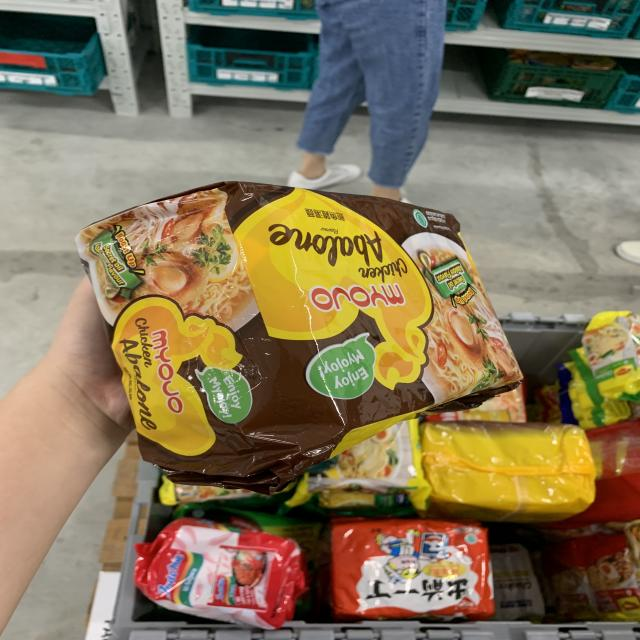object_name: (95, 199, 527, 411)
